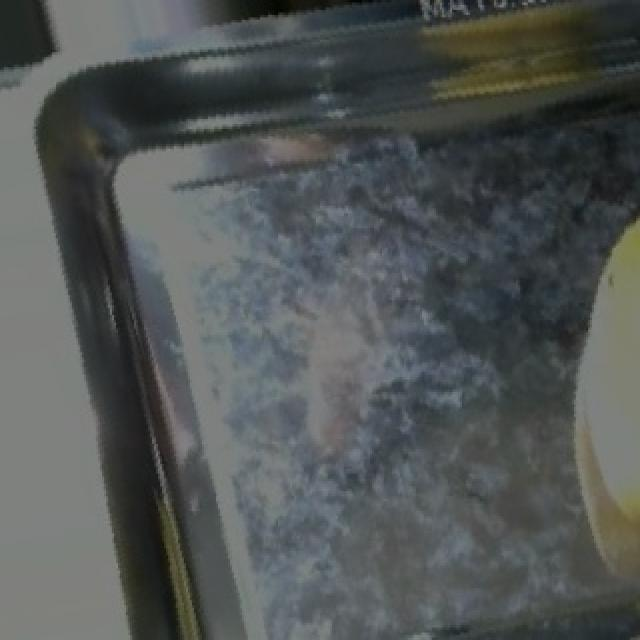fruit: (562, 156, 640, 404)
